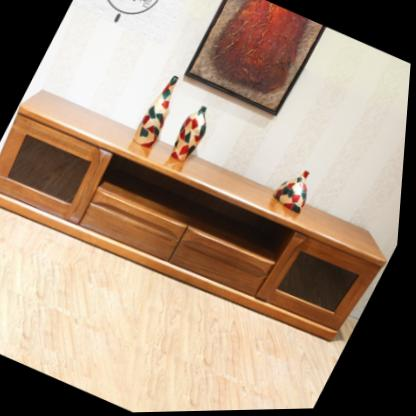TV stand: (0, 73, 410, 363)
